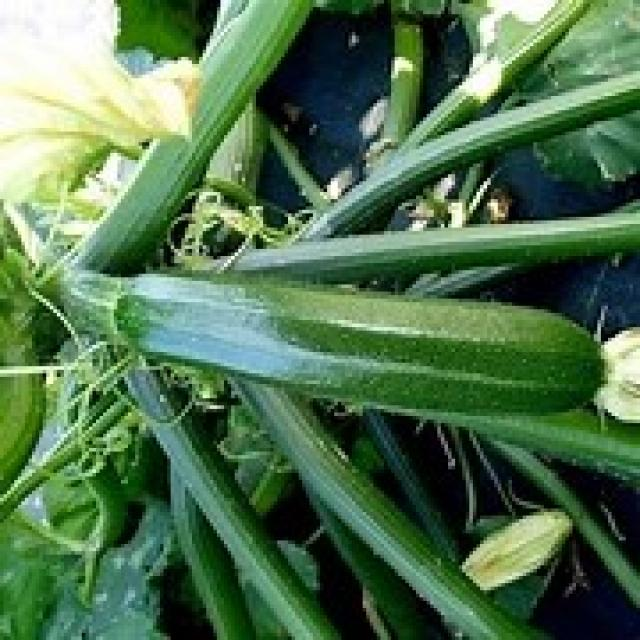Zucchini: (59, 264, 615, 410)
